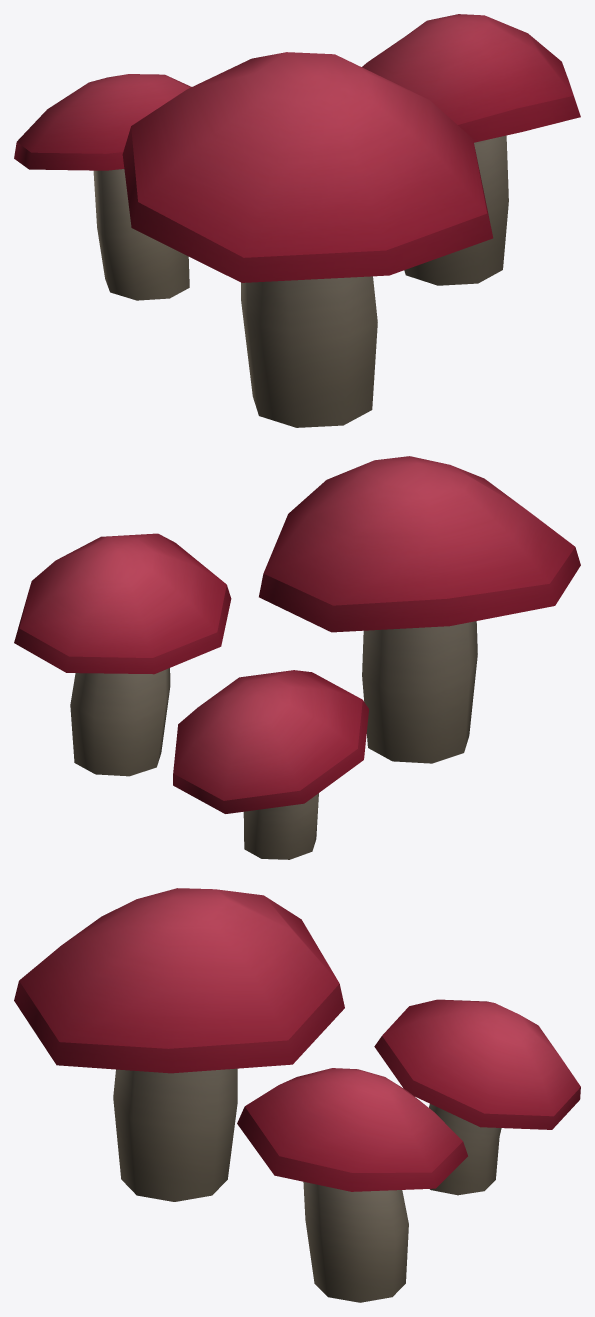
File: Mushrooms.fbx
3 views of the same model, one above another, from view 1: azimuth 30°, elevation 25°; view 2: azimuth 150°, elevation 25°; view 3: azimuth 270°, elevation 25° (orthographic). The views are drawn at different scales.
Visible parts, largest first — view 1: Cylinder.002; view 2: Cylinder.002; view 3: Cylinder.002.
Part boxes in pixels (x1,y1,x2,y2): Cylinder.002: [14, 14, 580, 427]; Cylinder.002: [14, 456, 580, 859]; Cylinder.002: [14, 888, 580, 1302].
Size of the model in its own units: 0.8218 by 0.4528 by 0.764.
